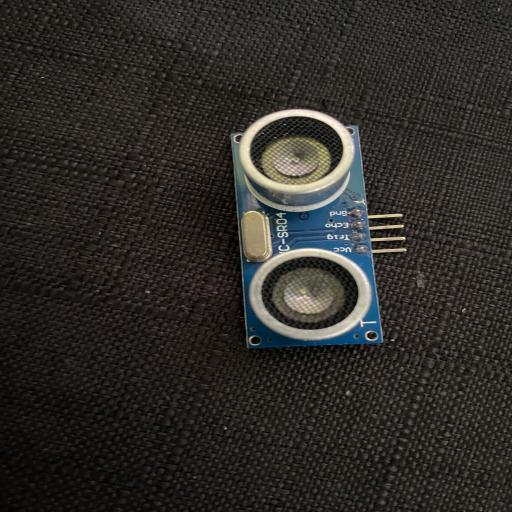Ultrasonic Sensor: (229, 108, 407, 349)
